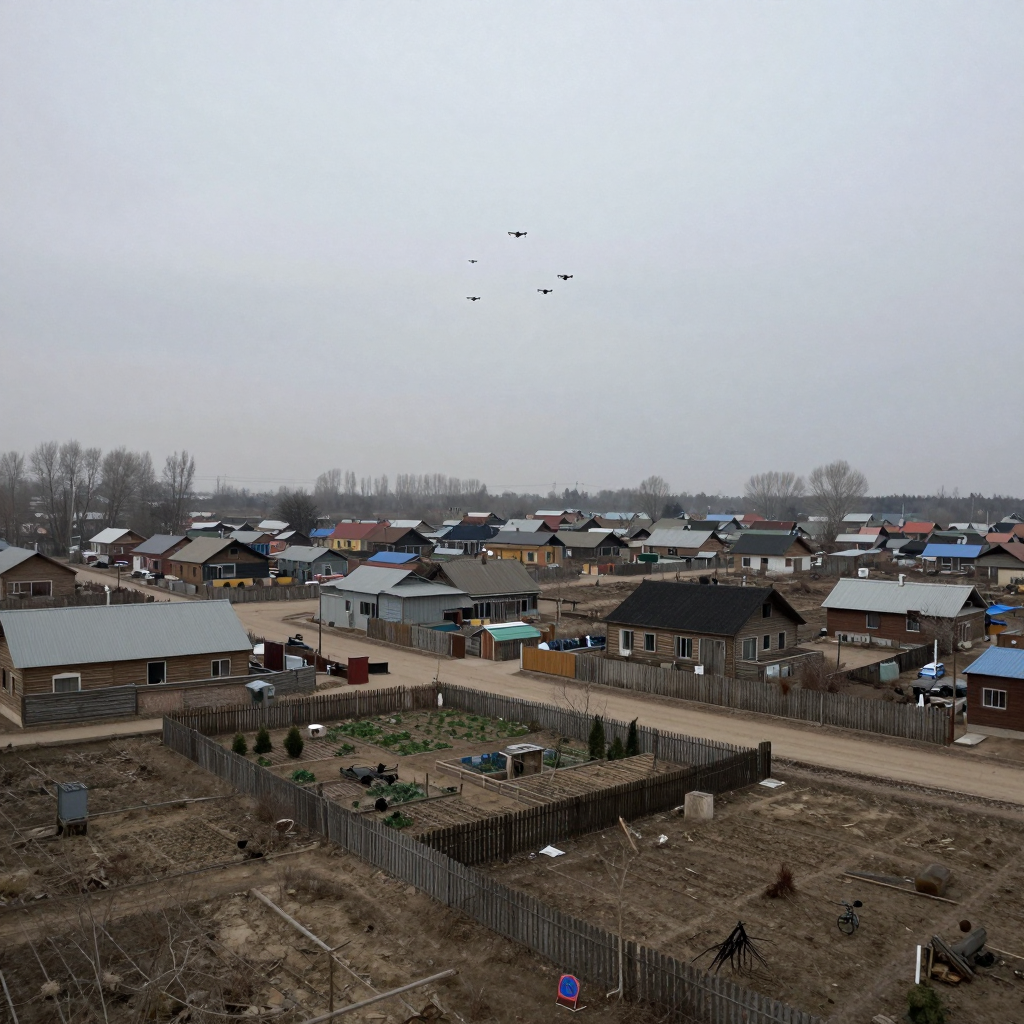drone: (557, 274, 573, 281), (537, 289, 553, 295), (512, 232, 527, 238), (466, 296, 481, 301), (465, 256, 477, 262), (508, 232, 512, 236)
